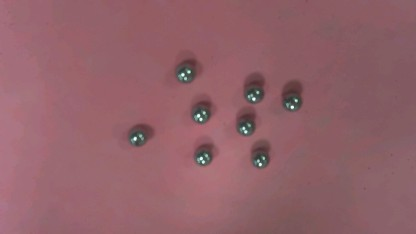ironball: (243, 148, 274, 174), (189, 146, 215, 173), (241, 84, 269, 107), (172, 61, 196, 85), (126, 125, 148, 149), (191, 105, 213, 126), (234, 115, 250, 139), (279, 92, 299, 111)
